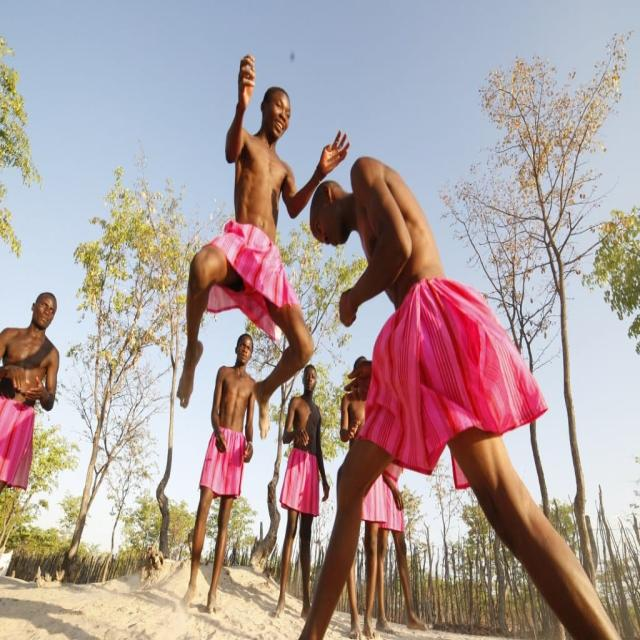sem_oculos: (28, 292, 61, 322), (262, 92, 295, 117), (313, 212, 325, 252), (238, 334, 254, 355), (301, 367, 321, 383)
